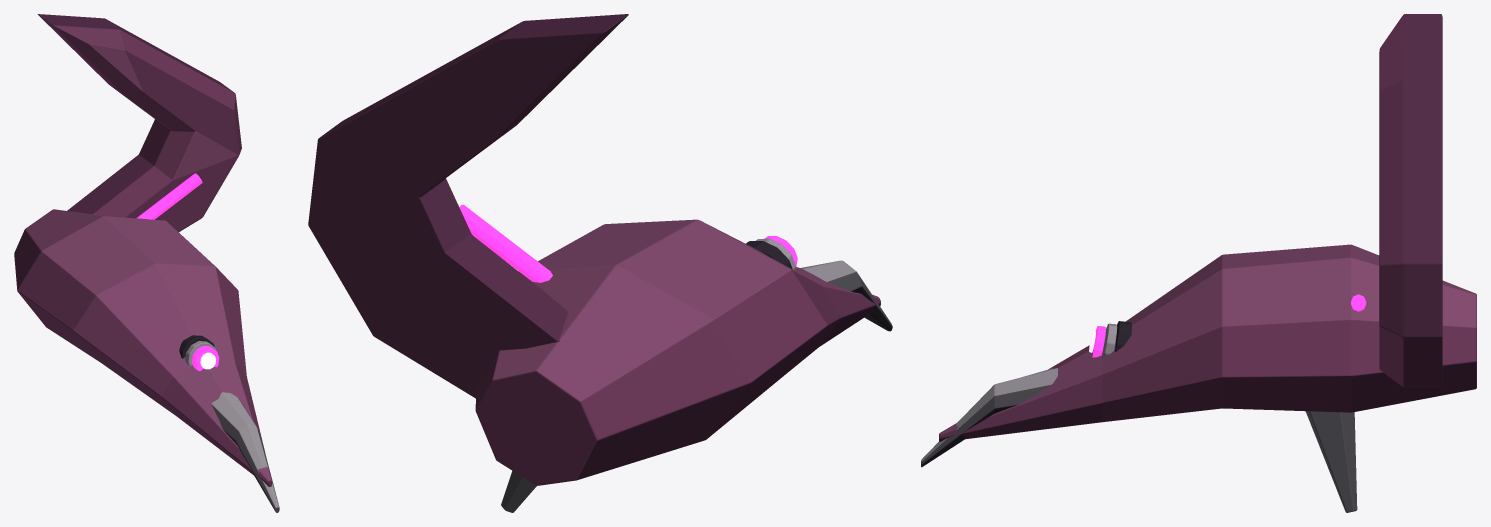
The model's file is Skipper.fbx.
The picture shows the model from 3 angles, left to right: view 1: azimuth 30°, elevation 25°; view 2: azimuth 150°, elevation 25°; view 3: azimuth 270°, elevation 25°; orthographic projection. The views are drawn at different scales.
Visible parts, largest first — view 1: Armor 1, Armor 2, Armor 3, Armor 4; view 2: Armor 1, Armor 2, Armor 4, Armor 3; view 3: Armor 1, Armor 2, Armor 3, Armor 4.
Part boxes in pixels (bbox=[...]): Armor 1: bbox=[14, 209, 272, 486]; Armor 2: bbox=[37, 14, 241, 231]; Armor 3: bbox=[179, 335, 279, 512]; Armor 4: bbox=[136, 173, 202, 219]; Armor 1: bbox=[475, 219, 880, 485]; Armor 2: bbox=[308, 14, 628, 398]; Armor 4: bbox=[459, 204, 552, 512]; Armor 3: bbox=[746, 236, 892, 331]; Armor 1: bbox=[939, 244, 1476, 441]; Armor 2: bbox=[1379, 14, 1442, 386]; Armor 3: bbox=[921, 321, 1131, 467]; Armor 4: bbox=[1305, 294, 1366, 512].
Size of the model in its own units: 0.0694 by 0.0961 by 0.11.
